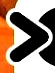menu_arrow: (6, 8, 53, 67)
